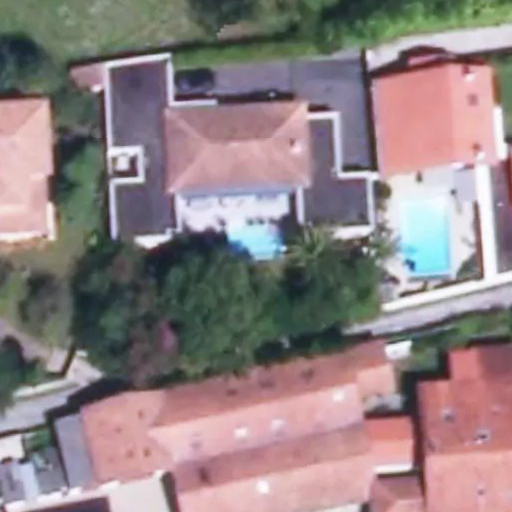pool: (226, 219, 284, 262)
